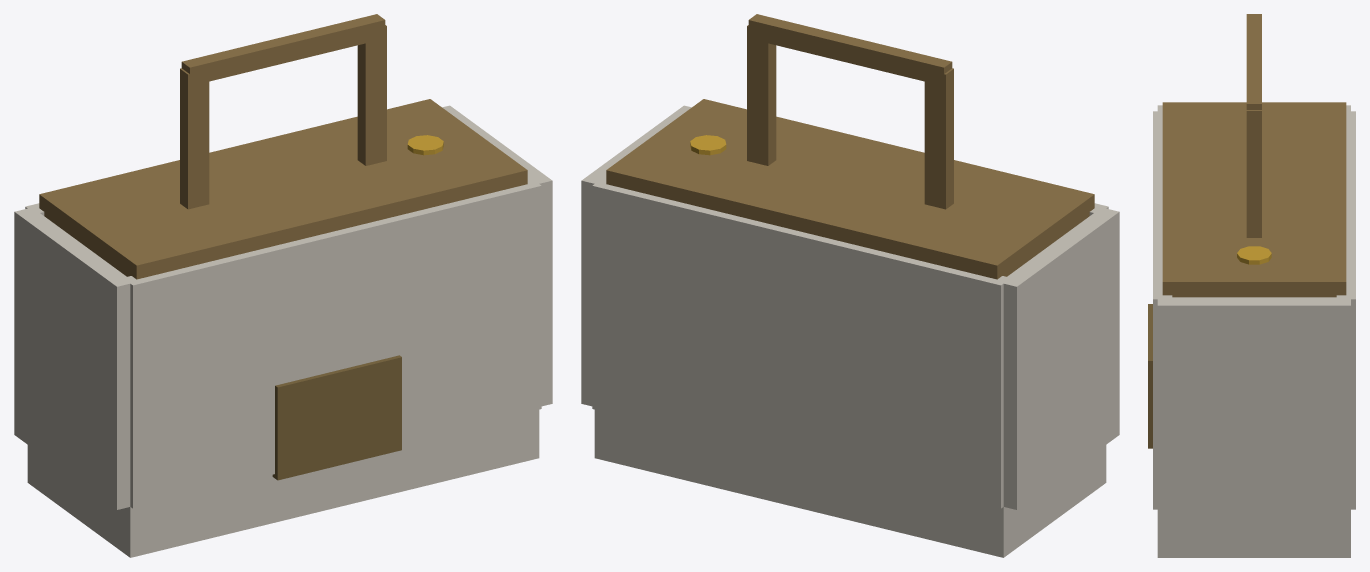
File: hero_bag.glb
The picture shows the model from 3 angles, left to right: view 1: azimuth 30°, elevation 25°; view 2: azimuth 150°, elevation 25°; view 3: azimuth 270°, elevation 25°; orthographic projection. The views are drawn at different scales.
Parts seen in each view (by area): view 1: hero_bag; view 2: hero_bag; view 3: hero_bag.
Boxes of the visible parts, <box> form: hero_bag: <box>14,14,552,557</box>; hero_bag: <box>581,14,1119,557</box>; hero_bag: <box>1148,14,1355,557</box>.
Size of the model in its own units: 0.49 by 0.462 by 0.215.
